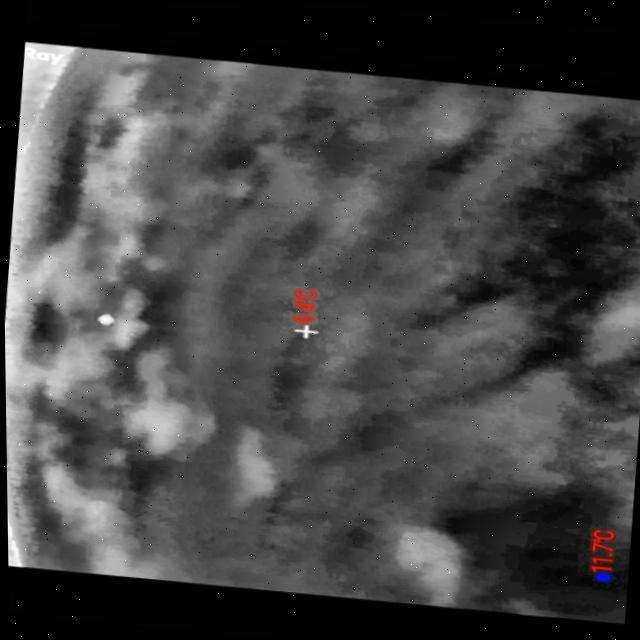drone: (93, 312, 116, 327)
